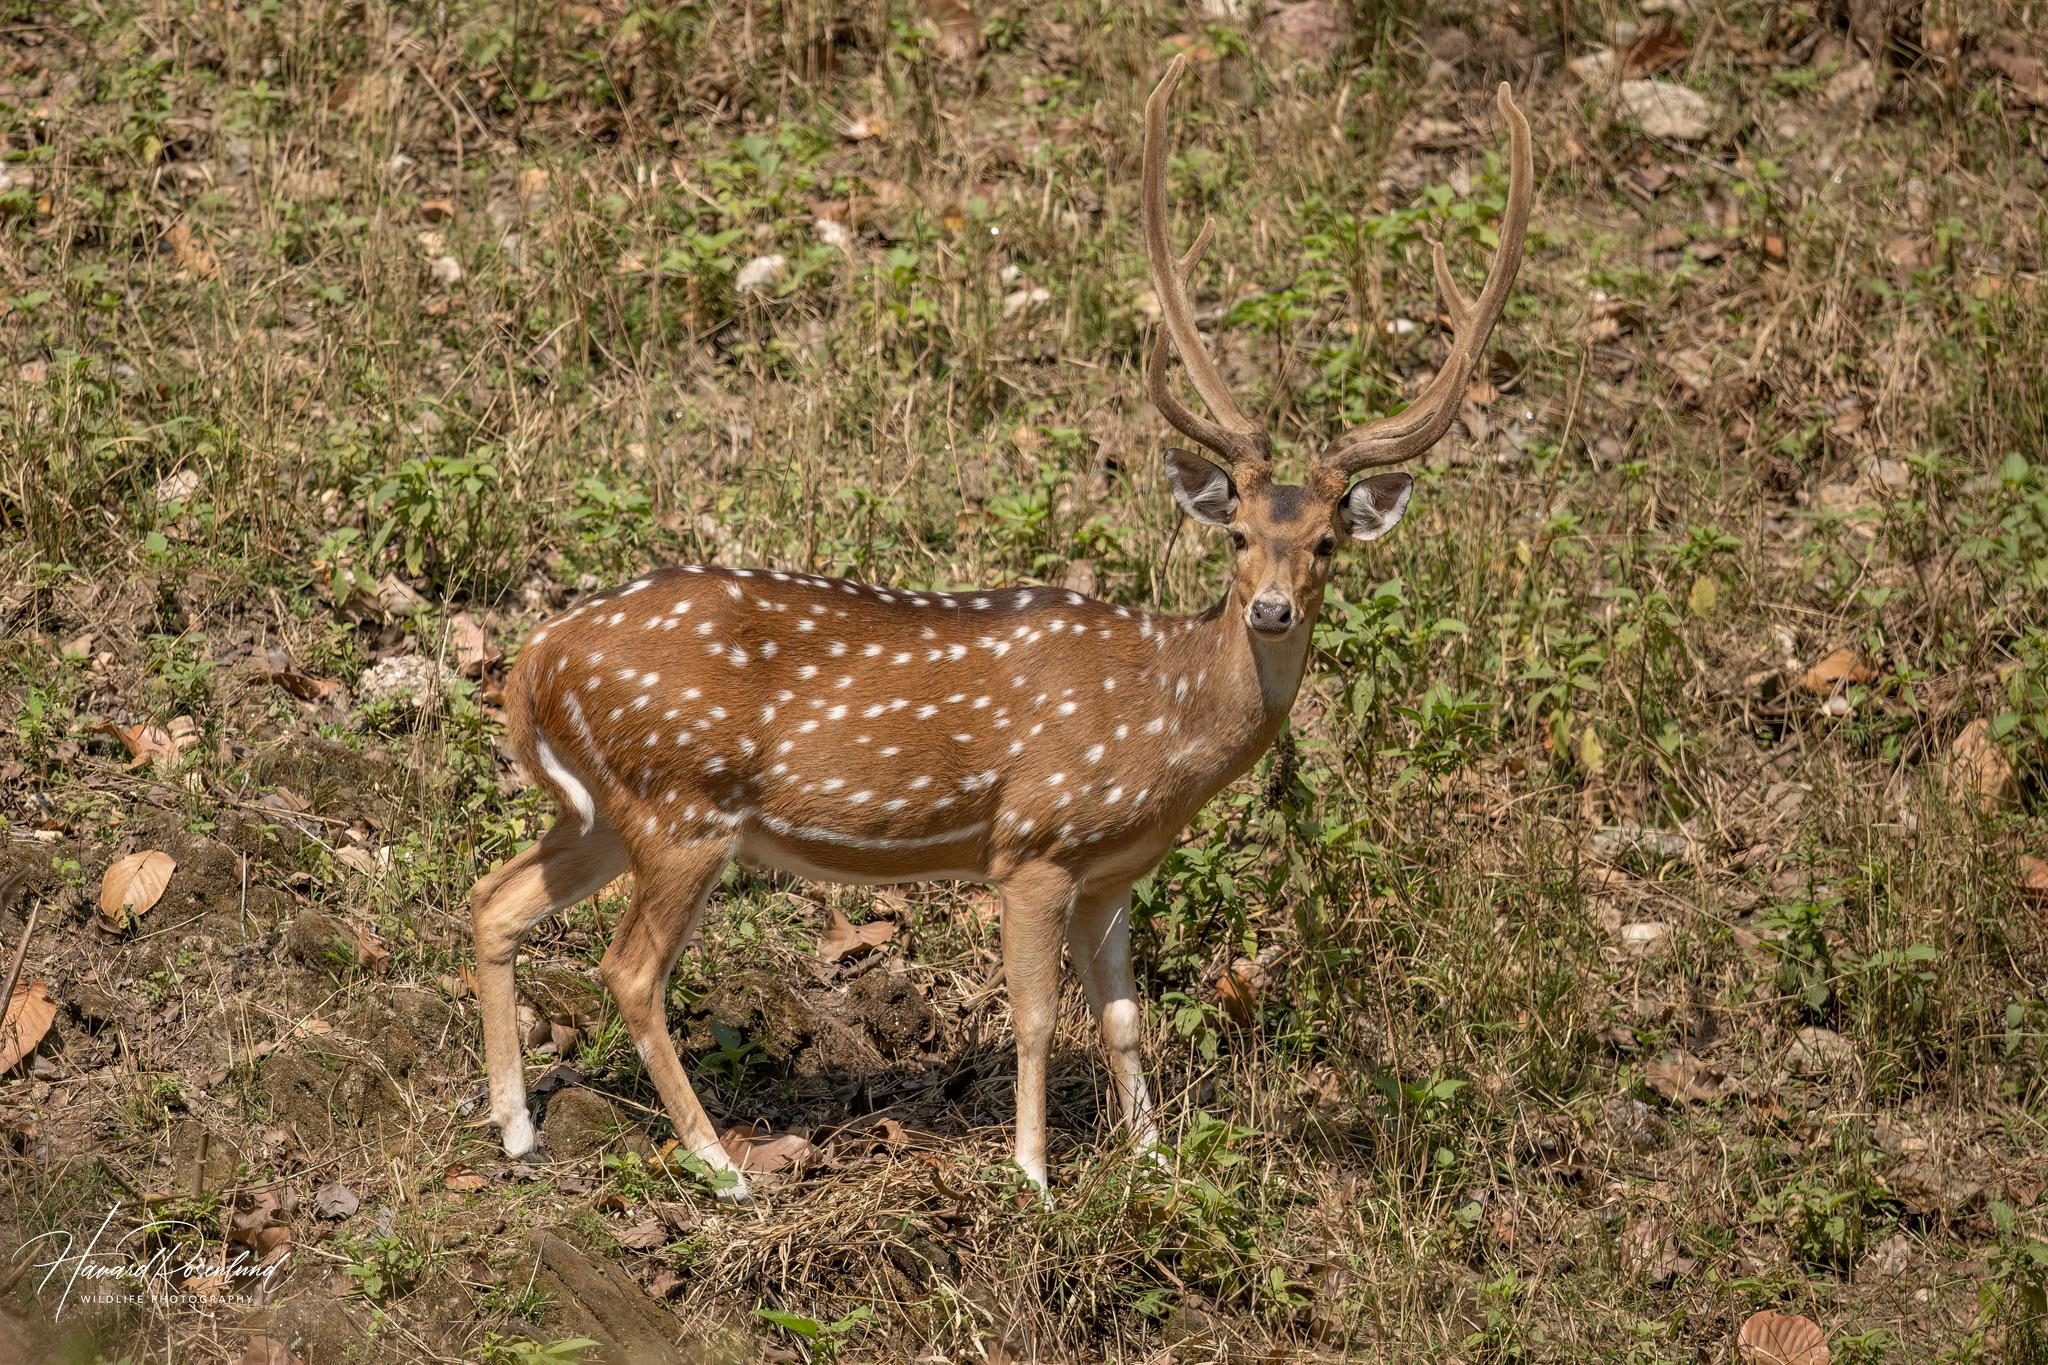Deer: (477, 55, 1533, 1191)
